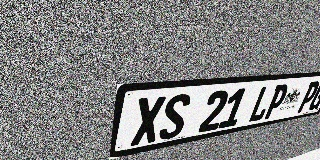1: (218, 88, 249, 129)
2: (198, 90, 230, 133)
G: (307, 80, 320, 111)
L: (247, 85, 276, 123)
P: (262, 84, 291, 120), (295, 81, 320, 113)
S: (158, 93, 192, 141)
X: (130, 96, 166, 146)
